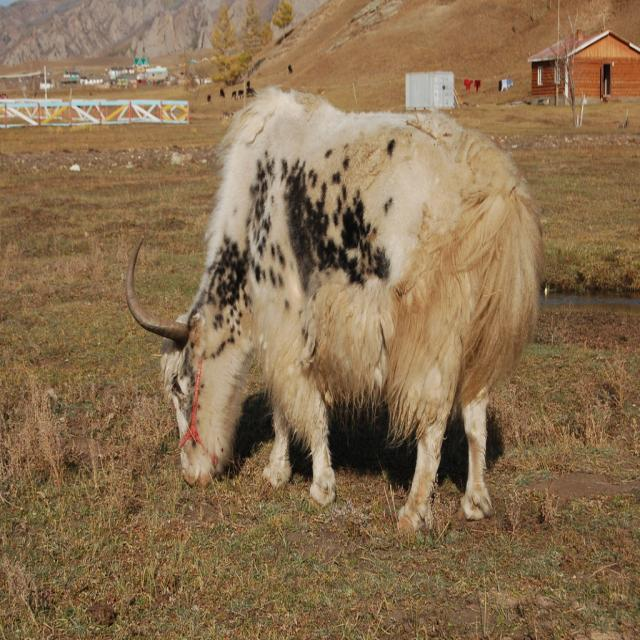Cattle: (126, 86, 544, 540)
